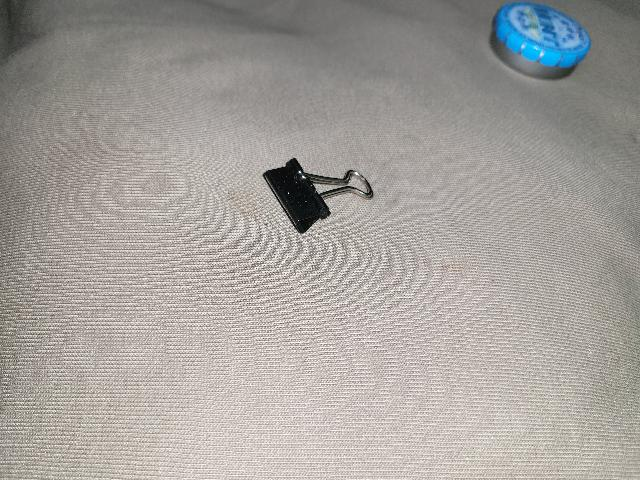Metal: (486, 0, 592, 82), (306, 162, 377, 207)
Plastik: (265, 158, 330, 234)
